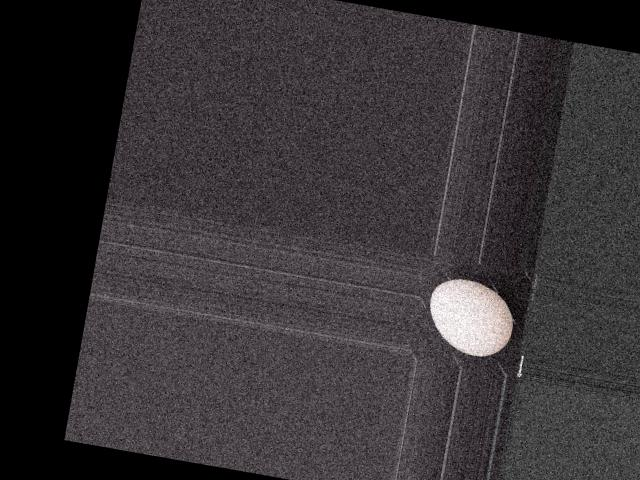egg: (422, 273, 519, 360)
